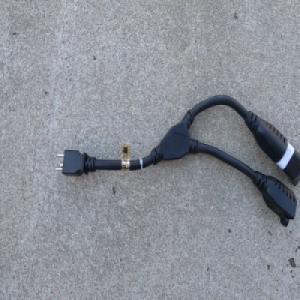Wire: (54, 94, 300, 228)
